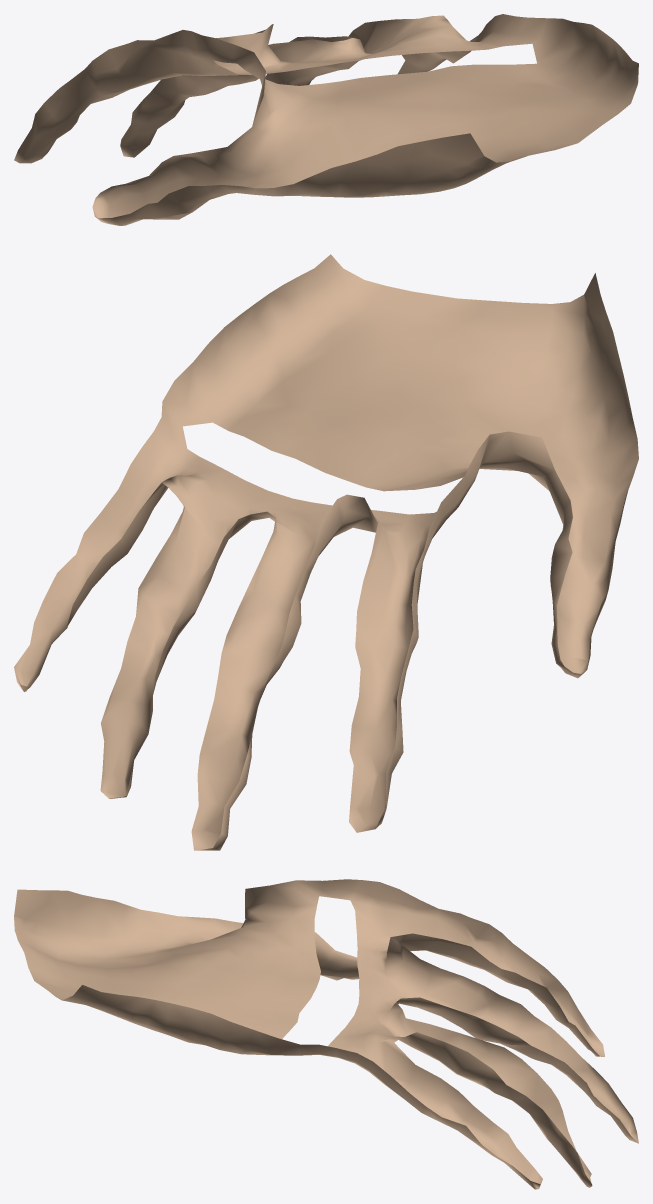
3 renders of one model, top to bottom at view 1: azimuth 30°, elevation 25°; view 2: azimuth 150°, elevation 25°; view 3: azimuth 270°, elevation 25°, orthographic. The views are drawn at different scales.
Parts seen in each view (by area): view 1: 右侧掌腱膜; view 2: 右侧掌腱膜; view 3: 右侧掌腱膜.
Part boxes in pixels (x1,y1,x2,y2): 右侧掌腱膜: (14,14,638,225); 右侧掌腱膜: (14,254,638,850); 右侧掌腱膜: (14,879,638,1189).
Size of the model in its own units: 0.1611 by 0.1004 by 0.2299.
